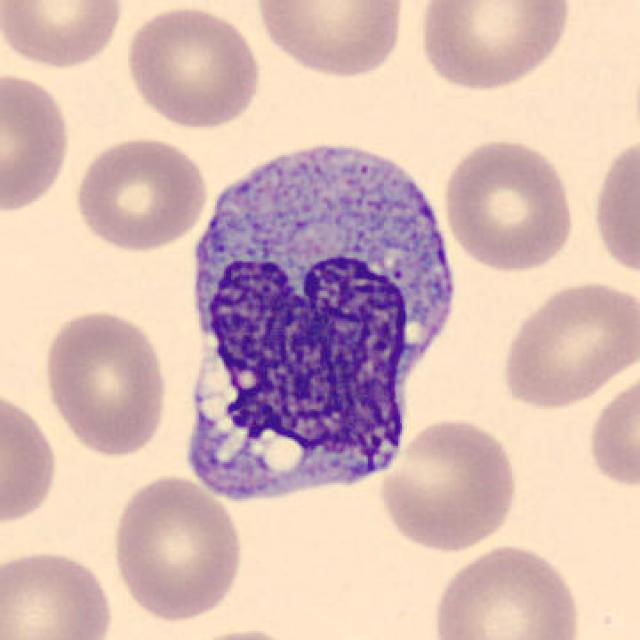Monocyte: (174, 120, 466, 513)
RBC: (375, 414, 523, 556), (109, 473, 247, 624), (39, 305, 173, 460), (439, 136, 578, 275), (496, 275, 636, 411), (121, 2, 265, 132), (71, 134, 212, 254), (427, 541, 585, 640), (414, 0, 576, 93), (250, 0, 410, 81), (0, 545, 119, 640), (0, 67, 75, 215), (0, 0, 126, 72), (0, 384, 60, 530), (588, 128, 638, 286), (585, 365, 640, 495), (174, 626, 310, 640)
